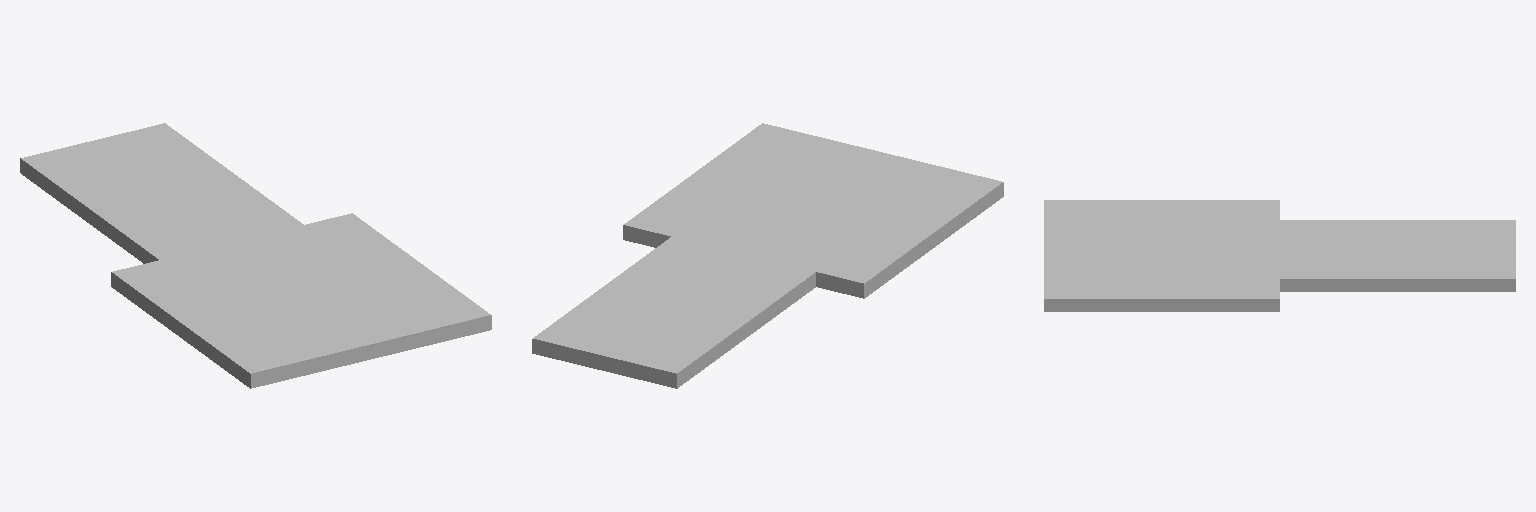
robot.urdf — ohd_1:
<?xml version="1.0"?>
<robot name="ohd_1">
  <material name="face_material">
    <color rgba="0.8 0.8 0.8 1.0"/>
  </material>
  <link name="face_0">
    <visual>
      <geometry>
        <mesh filename="meshes/face_0.stl" scale="1.0 1.0 1.0"/>
      </geometry>
      <material name="face_material"/>
    </visual>
  </link>
  <link name="face_1">
    <visual>
      <geometry>
        <mesh filename="meshes/face_1.stl" scale="1.0 1.0 1.0"/>
      </geometry>
      <material name="face_material"/>
    </visual>
  </link>
  <link name="face_2">
    <visual>
      <geometry>
        <mesh filename="meshes/face_2.stl" scale="1.0 1.0 1.0"/>
      </geometry>
      <material name="face_material"/>
    </visual>
  </link>
  <joint name="joint_0" type="revolute">
    <parent link="face_0"/>
    <child link="face_1"/>
    <origin xyz="25.000000 50.000000 0.000000" rpy="0 0 0"/>
    <axis xyz="1.000000 0.000000 0.000000"/>
    <limit effort="10" velocity="3.14" lower="-1.57" upper="1.57"/>
  </joint>
  <joint name="joint_1" type="revolute">
    <parent link="face_1"/>
    <child link="face_2"/>
    <origin xyz="0.000000 50.000000 0.000000" rpy="0 0 0"/>
    <axis xyz="1.000000 0.000000 0.000000"/>
    <limit effort="10" velocity="3.14" lower="-1.57" upper="1.57"/>
  </joint>
</robot>

--- Render facts (derived) ---
3 views of the same robot in one strip: view 1: azimuth 30°, elevation 25°; view 2: azimuth 150°, elevation 25°; view 3: azimuth 270°, elevation 25° (orthographic).
Model ohd_1 with 3 links and 2 joints (2 revolute), rooted at face_0, posed every joint at zero.
Links seen in each view (by area): view 1: face_0, face_1; view 2: face_0, face_1; view 3: face_0, face_1.
Link boxes in pixels (box(x1,y1,x2,y2)): face_0: box(111, 213, 491, 388); face_1: box(20, 123, 303, 263); face_0: box(623, 123, 1003, 298); face_1: box(532, 237, 815, 388); face_0: box(1044, 200, 1279, 311); face_1: box(1280, 220, 1515, 291).
Size in the robot's own frame: 50 by 100 by 3 metres.
2 mesh visuals loaded from 3 distinct referenced files (2 binary STL); not drawn: 1 (reference not matched to a file when rendering).
